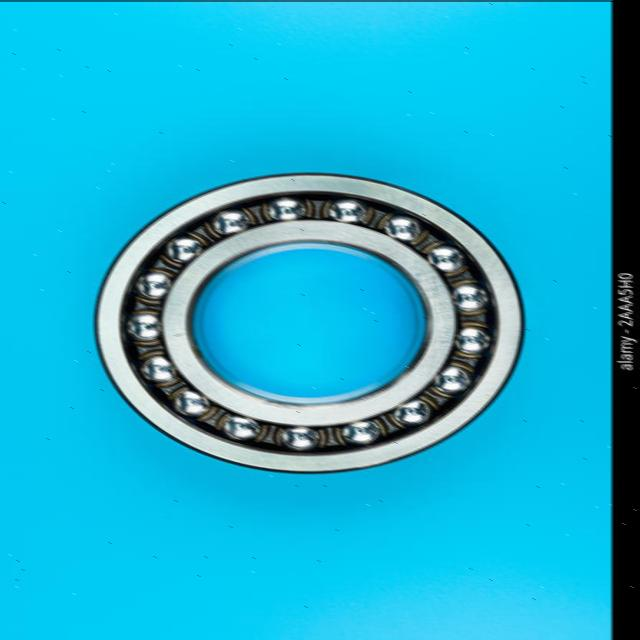Bearing: (92, 171, 525, 473)
